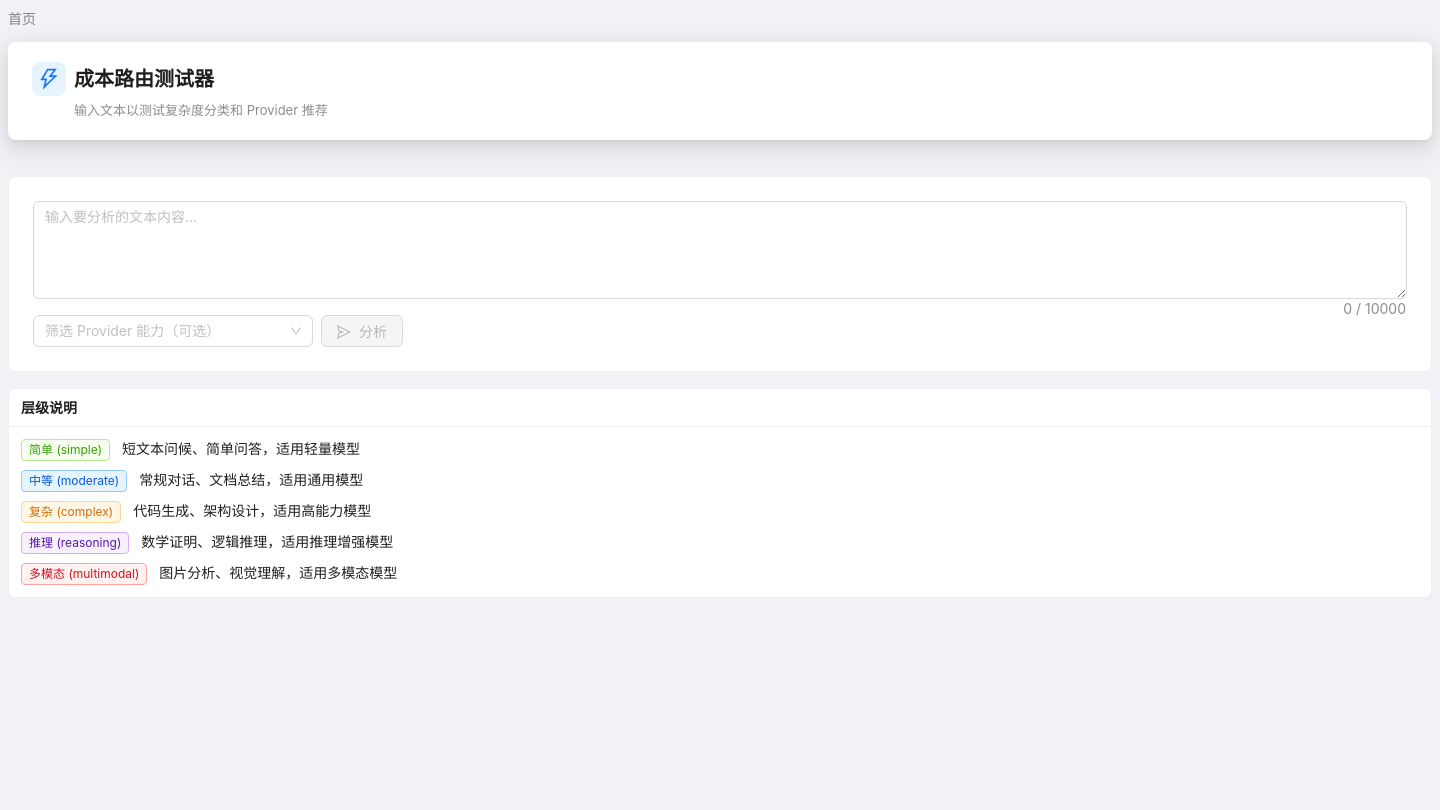
Test case: CostRouterPage › 无匹配 Provider 时显示警告
In the text box with placeholder "输入要分析的文本内容...": (720,250) 34,202 -> 1406,298, type "你好"
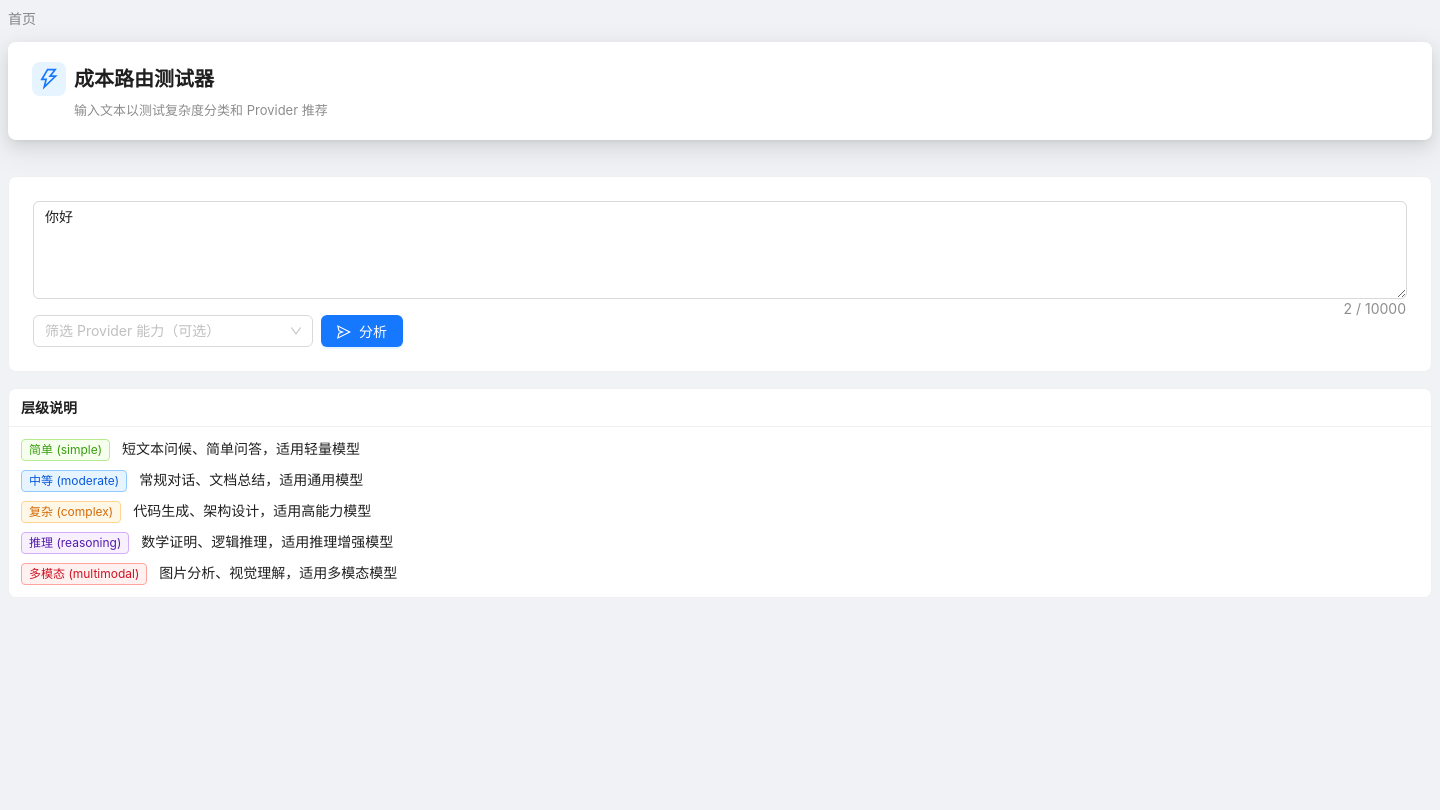
Click the button "分析": (362,331) 321,315 -> 403,347
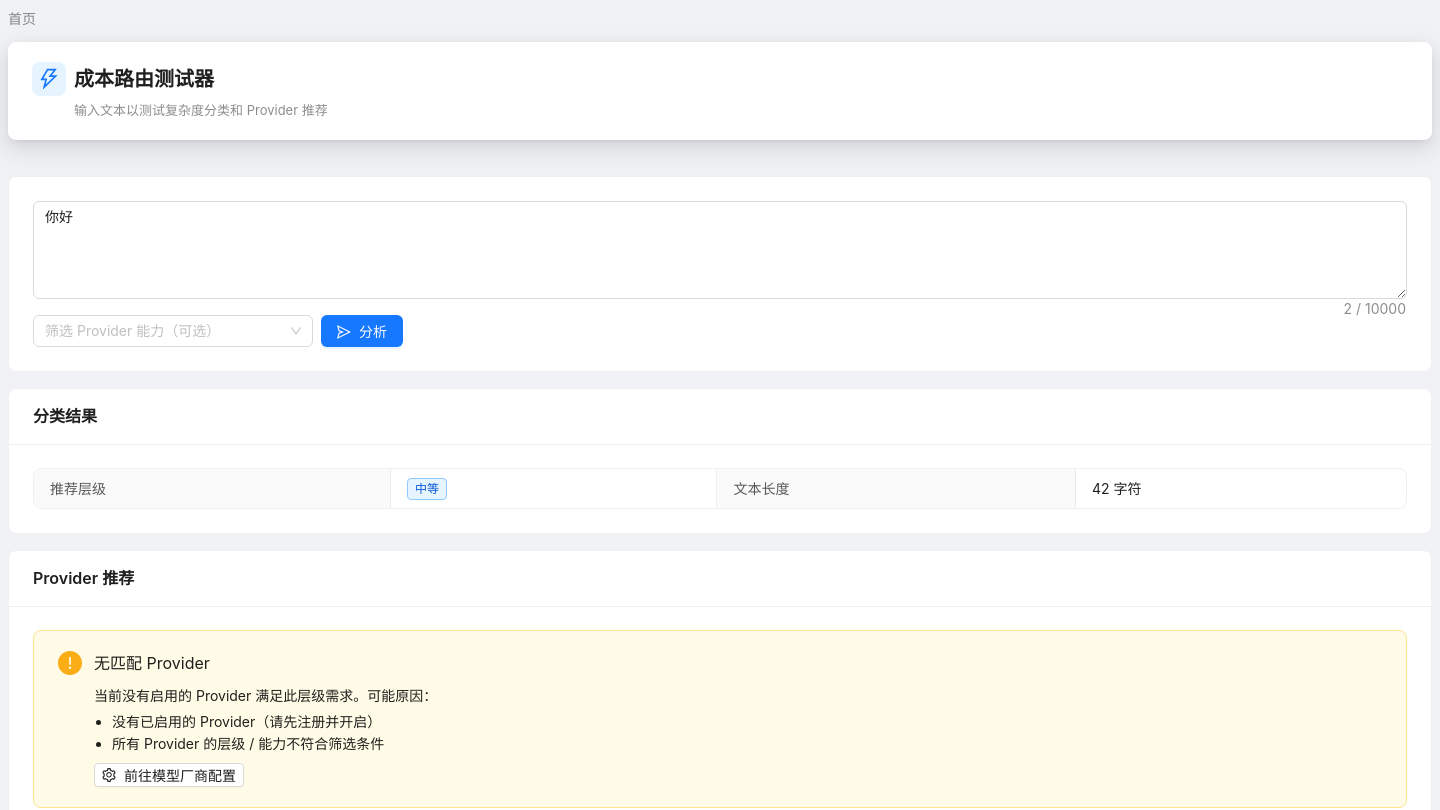
Now the text "无匹配 Provider" is shown, box 94,653 -> 210,673
